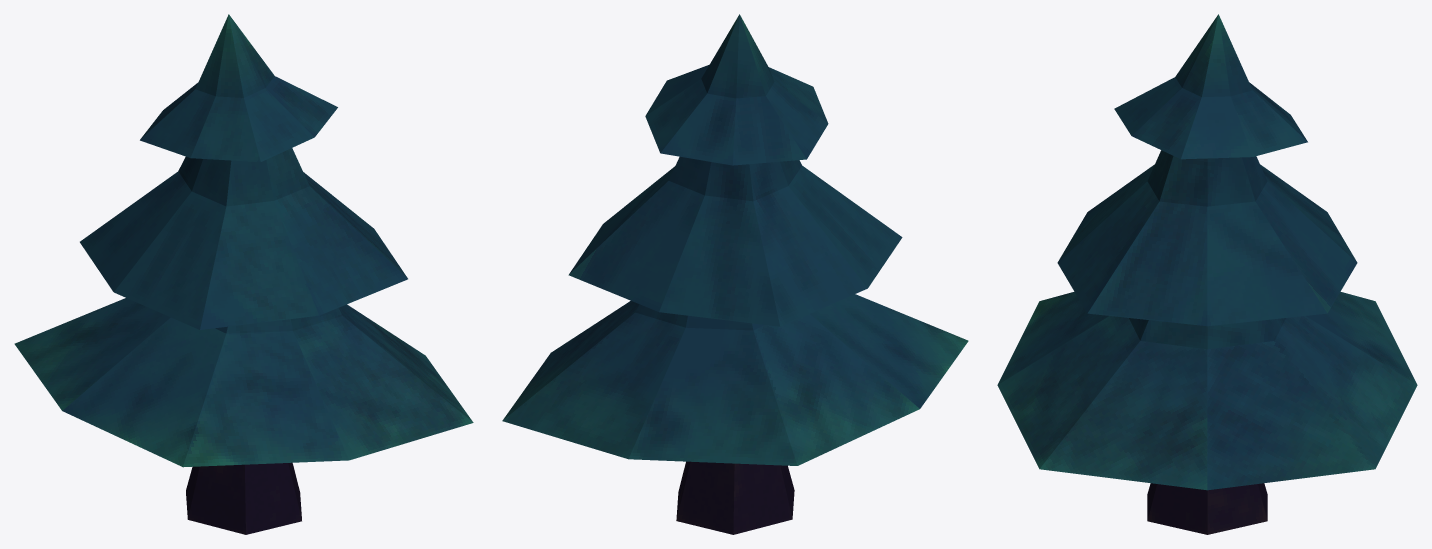
The model's file is Tree2.gltf.
3 renders of one model, left to right at view 1: azimuth 30°, elevation 25°; view 2: azimuth 150°, elevation 25°; view 3: azimuth 270°, elevation 25°, orthographic.
Parts seen in each view (by area): view 1: pyramid (×3), cylinder; view 2: pyramid (×3), cylinder; view 3: pyramid (×3), cylinder.
Part boxes in pixels (<box>): pyramid (×3): <box>14,14,473,467</box>; cylinder: <box>186,462,301,534</box>; pyramid (×3): <box>502,14,968,465</box>; cylinder: <box>676,461,794,534</box>; pyramid (×3): <box>997,14,1417,490</box>; cylinder: <box>1147,483,1267,534</box>.
Bounding box in the file's own units: 1.74 × 2.25 × 1.75.
1 material, 1 textured.
